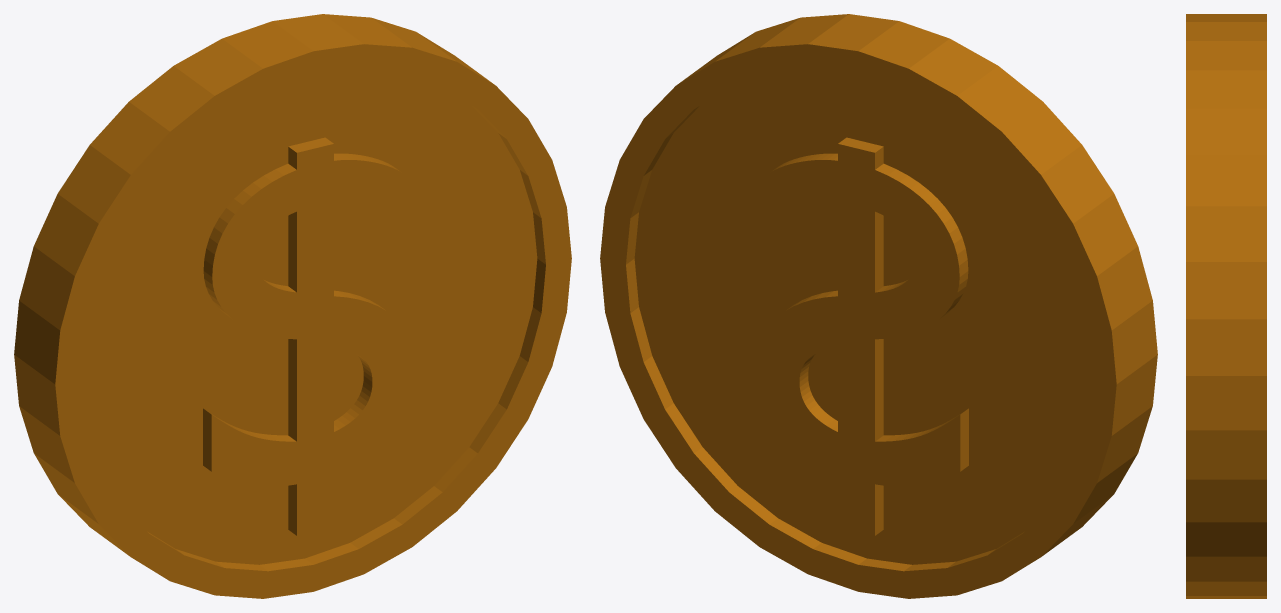
File: Coin.obj
The picture shows the model from 3 angles, left to right: view 1: azimuth 30°, elevation 25°; view 2: azimuth 150°, elevation 25°; view 3: azimuth 270°, elevation 25°; orthographic projection.
Parts seen in each view (by area): view 1: Coin_Cylinder; view 2: Coin_Cylinder; view 3: Coin_Cylinder.
Boxes of the visible parts, x1=… form: Coin_Cylinder: x1=14, y1=14, x2=571, y2=598; Coin_Cylinder: x1=600, y1=14, x2=1157, y2=598; Coin_Cylinder: x1=1186, y1=14, x2=1266, y2=598.
Bounding box in the file's own units: 1 × 1 × 0.1381.
